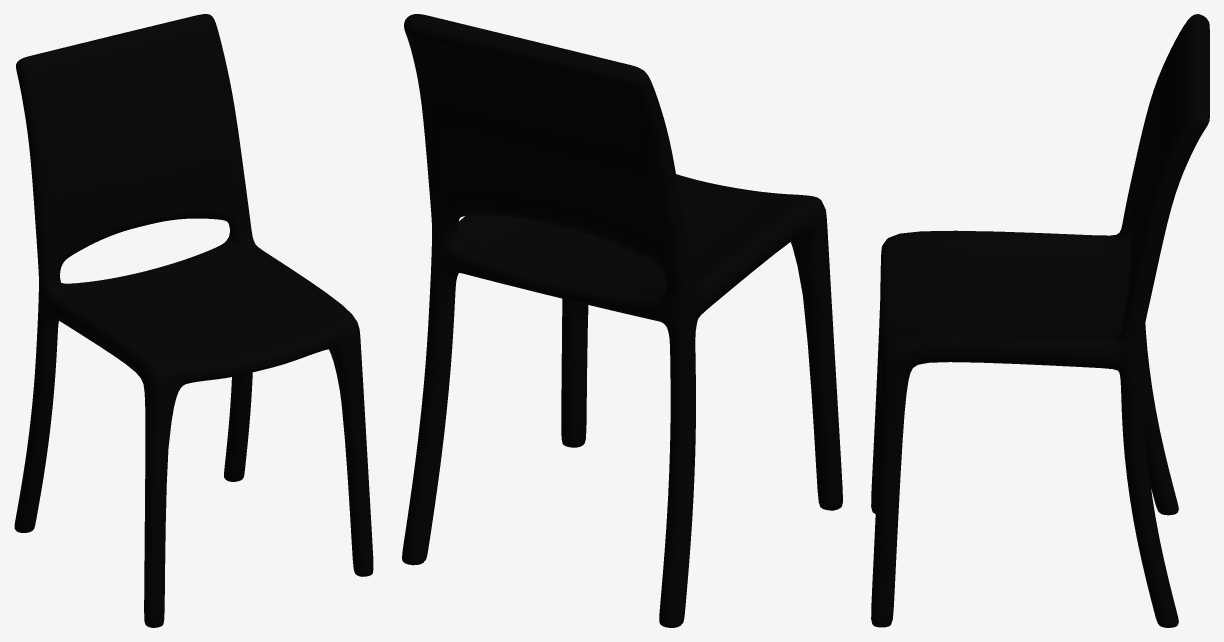
The model's file is Chair.fbx.
3 views of the same model, side by side, from view 1: azimuth 30°, elevation 25°; view 2: azimuth 150°, elevation 25°; view 3: azimuth 270°, elevation 25° (orthographic). The views are drawn at different scales.
Parts seen in each view (by area): view 1: Chair_Baked; view 2: Chair_Baked; view 3: Chair_Baked.
Boxes of the visible parts, x1,y1,x2,y2 form: Chair_Baked: (14, 14, 373, 627); Chair_Baked: (402, 14, 842, 627); Chair_Baked: (871, 14, 1209, 627).
Size of the model in its own units: 42.08 by 81.28 by 49.35.
